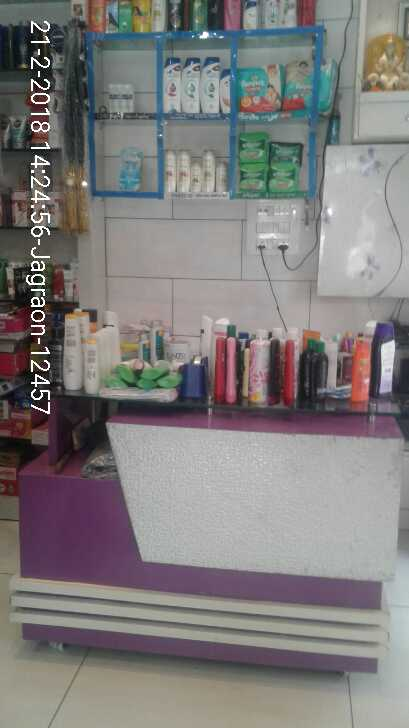venus: (120, 146, 143, 188)
